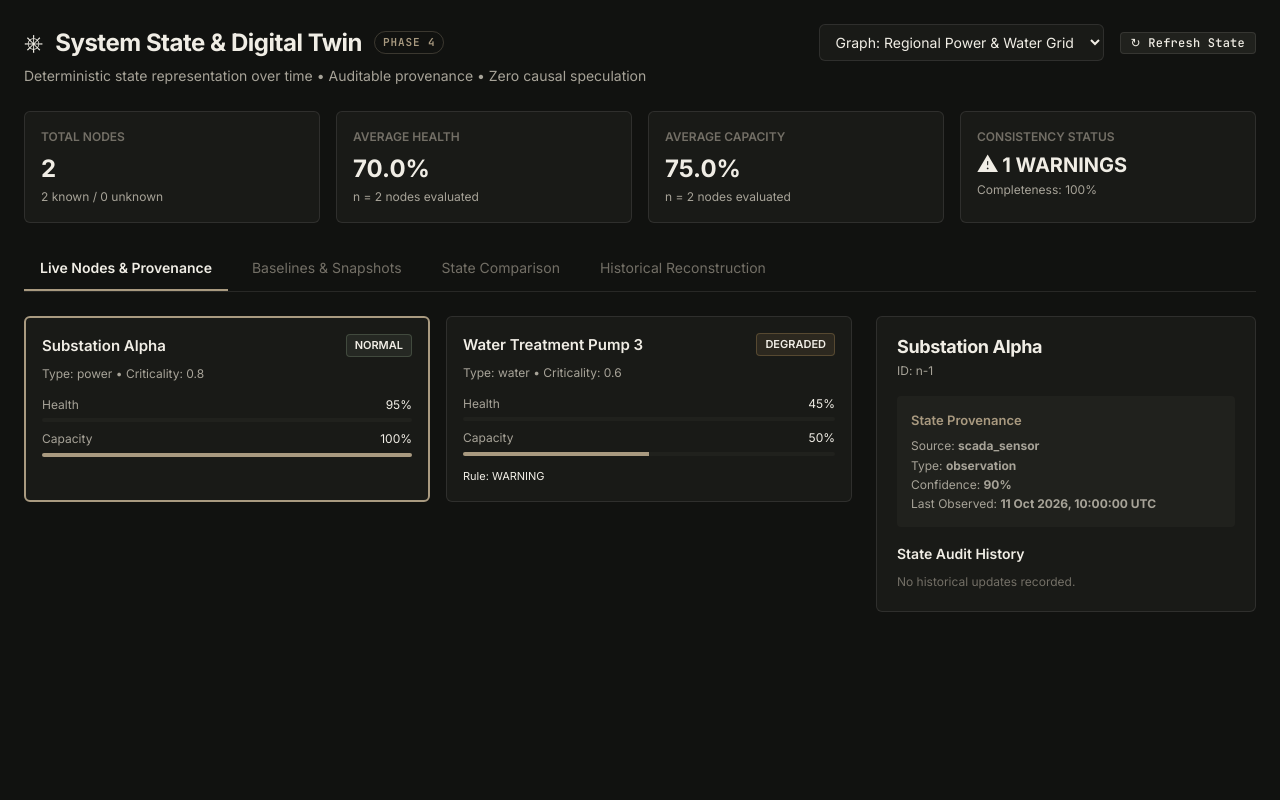
Scenario: Digital Twin & System State Explorer › handles tab switching to Baselines and Snapshots
The width and height of the screenshot is (1280, 800).
Click the button "Baselines & Snapshots". click: {"x": 327, "y": 269}
box: [236, 247, 418, 291]
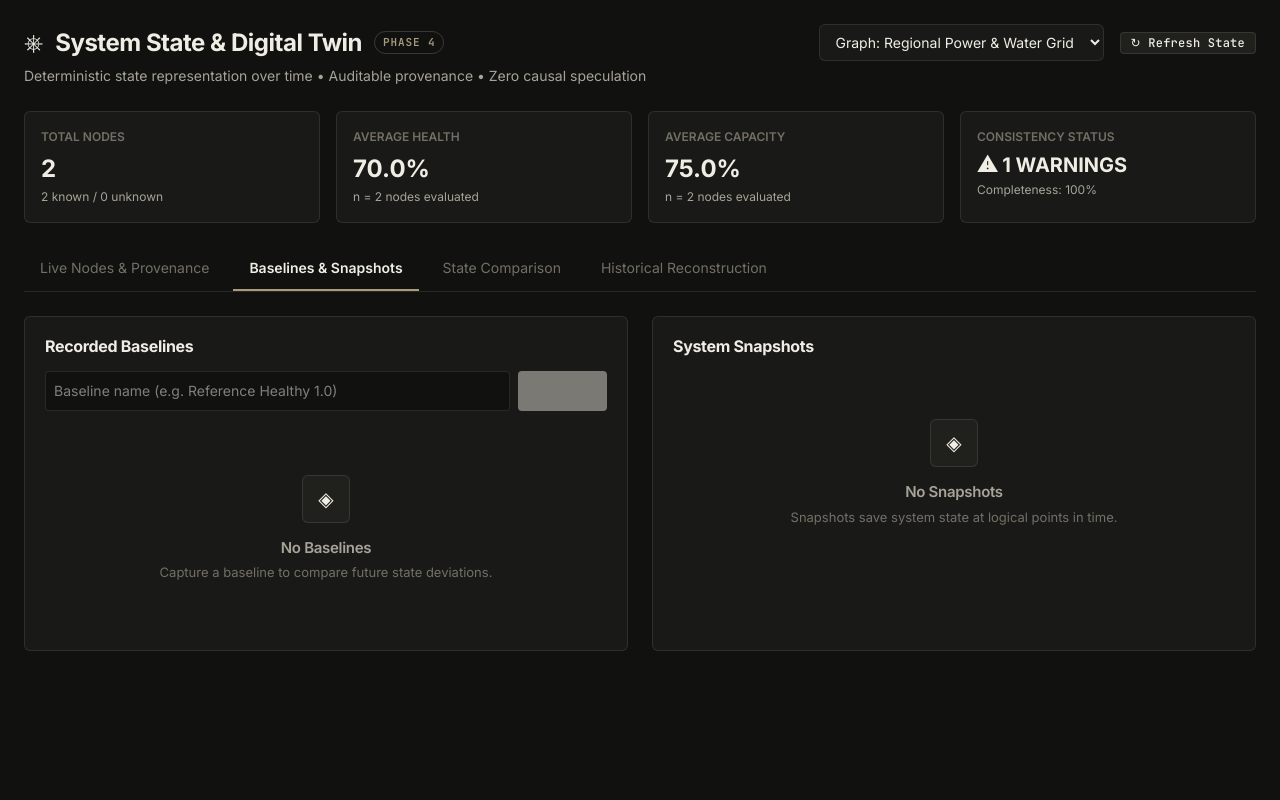
Check: the heading "Recorded Baselines" is shown, box [45, 336, 193, 356]
Check: the heading "System Snapshots" is shown, box [673, 336, 814, 356]
